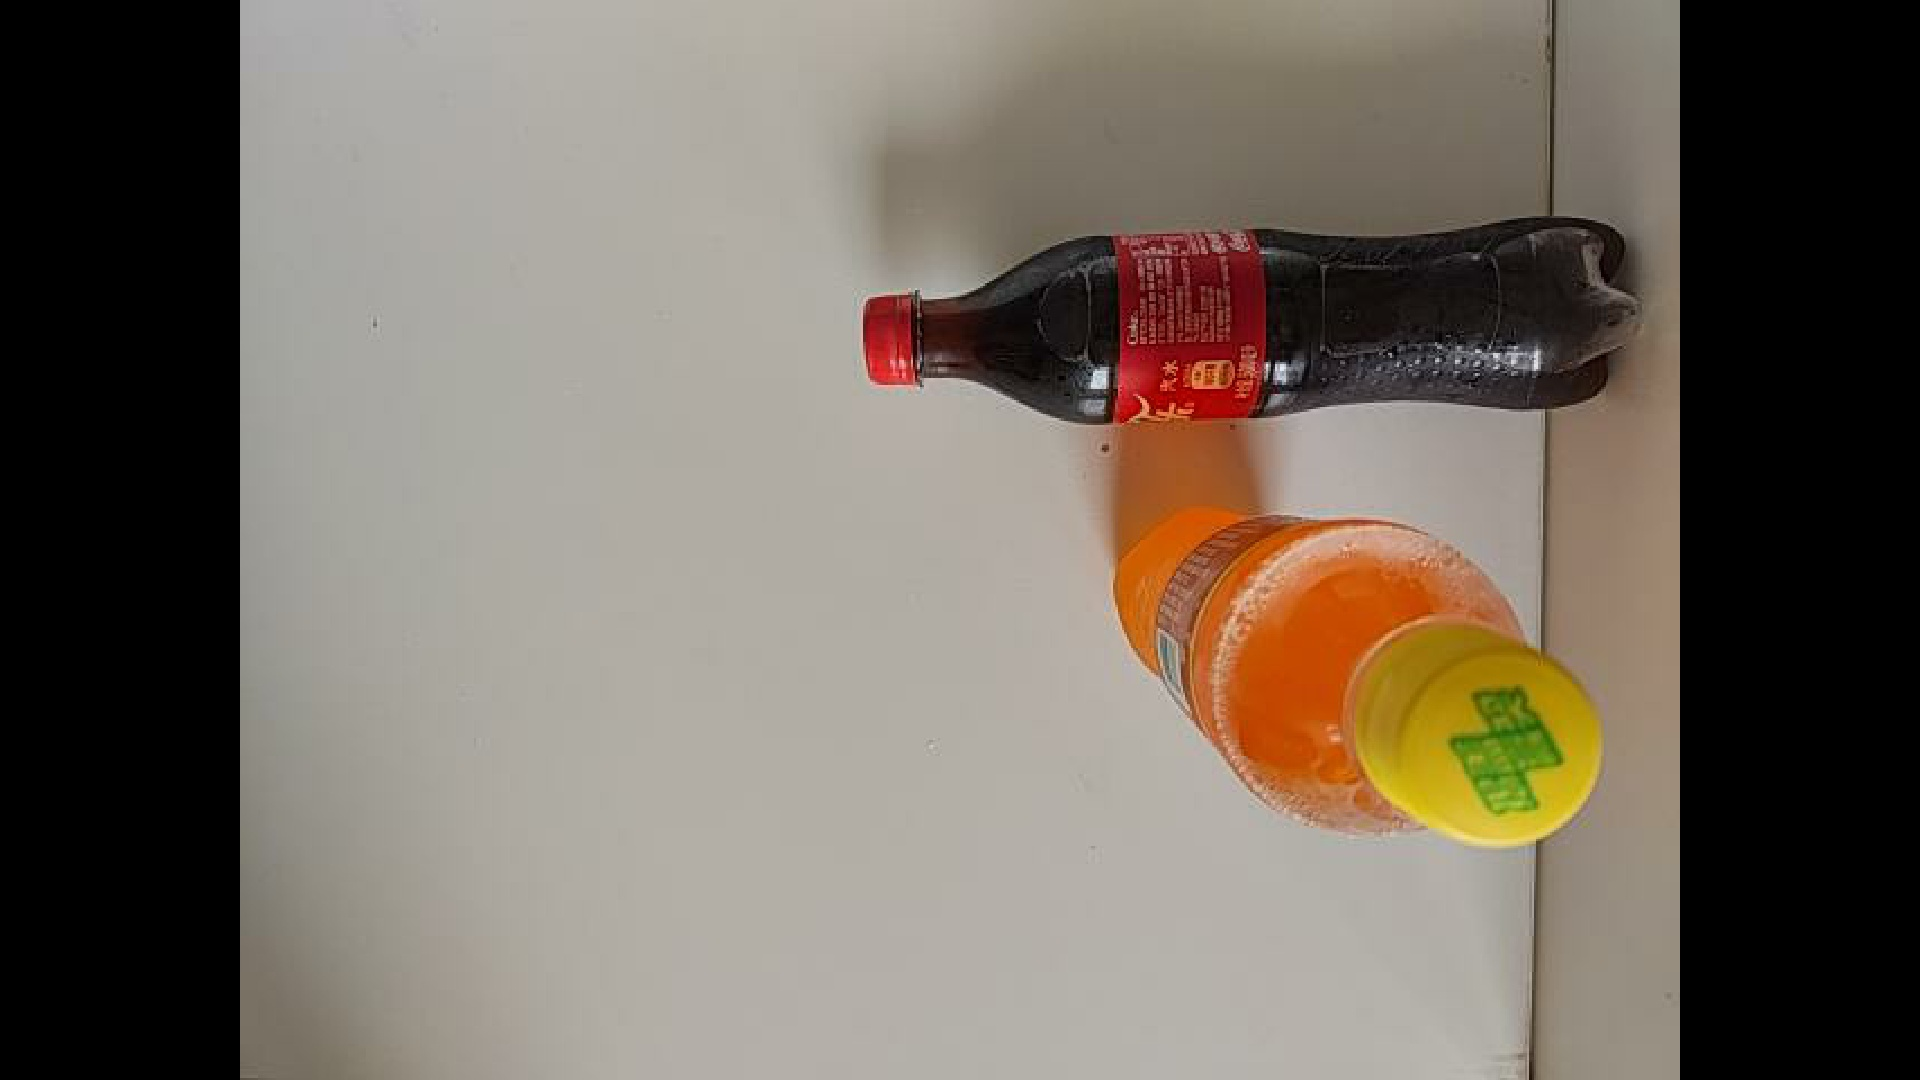cola: (856, 222, 1659, 443)
fenta: (1112, 500, 1605, 852)
